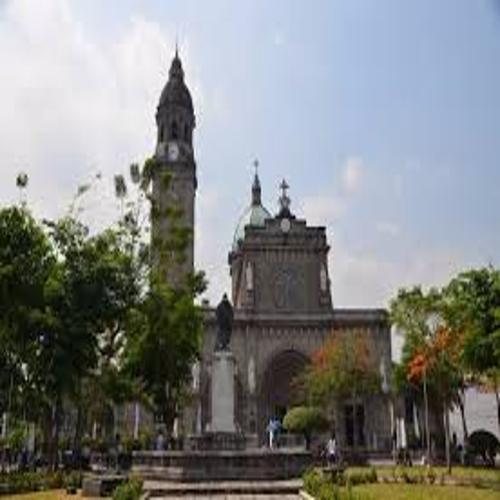Manila Cathedral Church: (61, 19, 402, 476)
